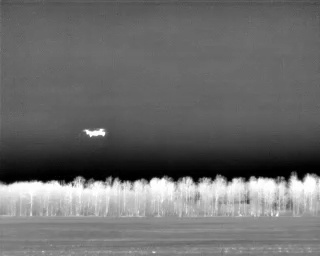DRONE: (79, 123, 111, 143)
